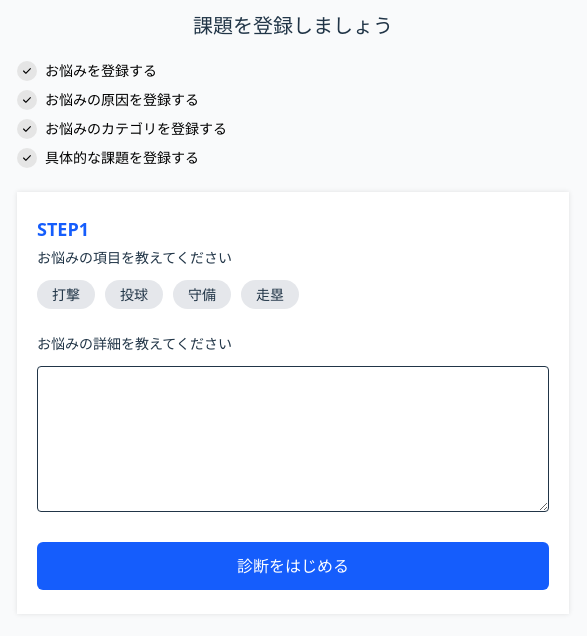
Test: STEP画面1のテスト › STEP画面3のテスト › step3用のカテゴリボタンを押下するとSTEP4のテキストが表示される
Click the radio button with class "step1Radio" at (66, 294), box [37,280,95,309]
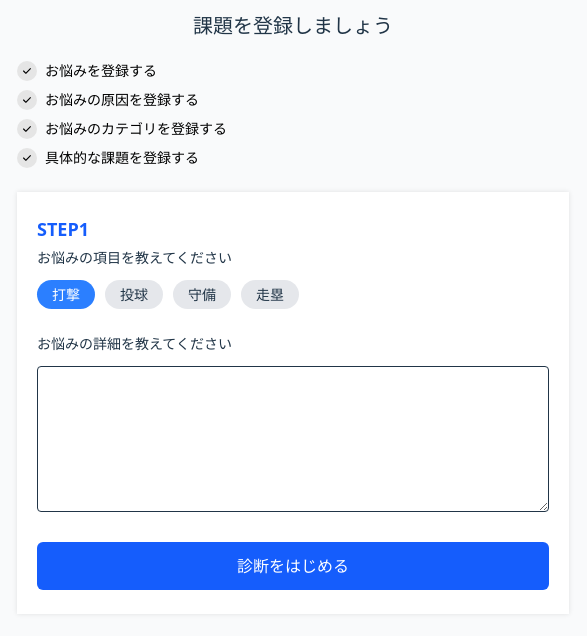
Type "テストテキスト" into the text box with class "step1Form" at (293, 439), box [37,366,549,512]
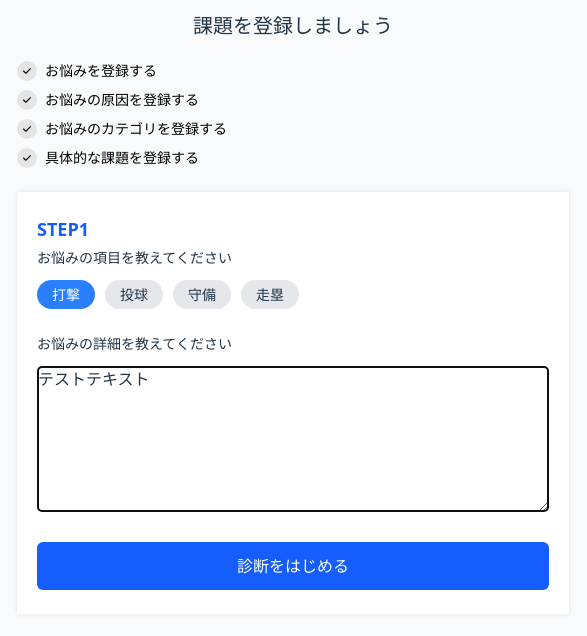
Click the button "診断をはじめる" at (293, 566), box [37,542,549,590]
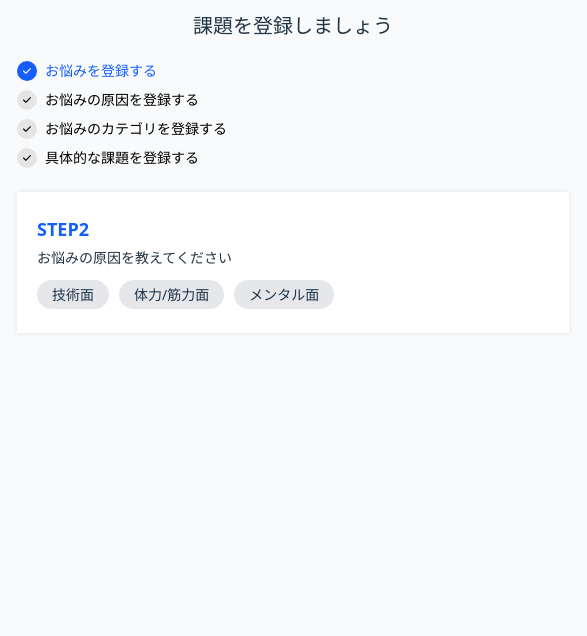
Click the radio button with class "step2Radio" at (73, 294), box [37,280,109,309]
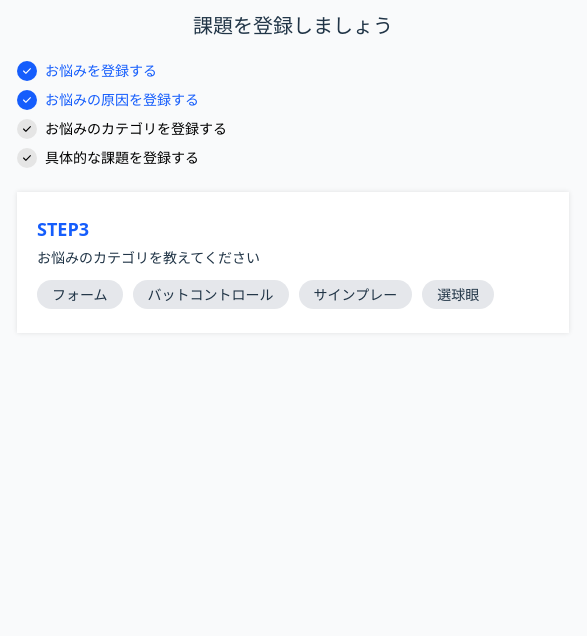
Click the radio button with class "step3Radio" at (80, 294), box [37,280,123,309]
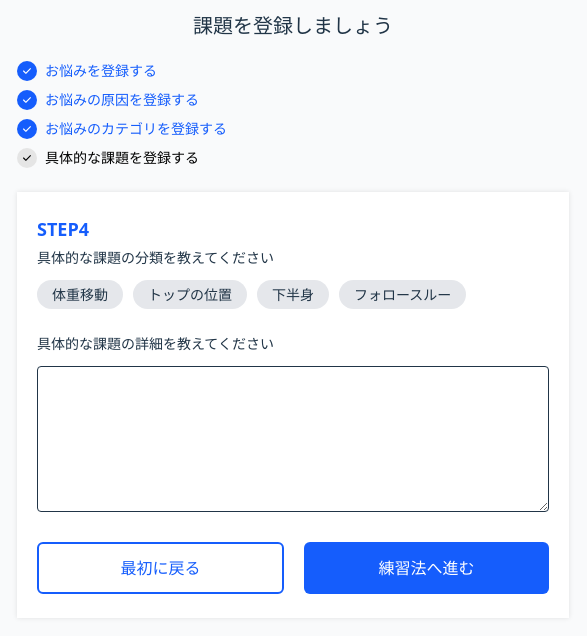
Result: the heading "step4" is shown at [37,217,89,241]
